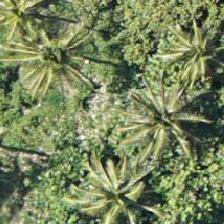coconut_tree: (3, 11, 93, 101), (119, 75, 209, 165), (150, 11, 223, 101), (56, 151, 146, 223), (67, 151, 157, 223), (0, 0, 59, 57)
